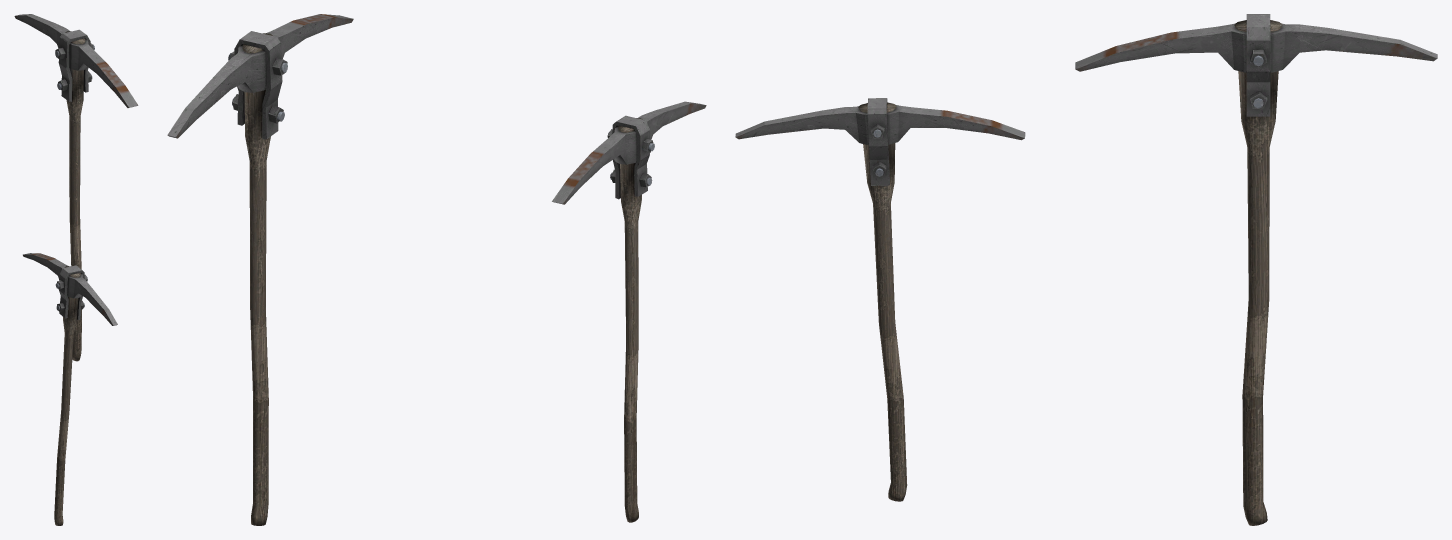
The model's file is PickaxeBasic.glb.
3 views of the same model, side by side, from view 1: azimuth 30°, elevation 25°; view 2: azimuth 150°, elevation 25°; view 3: azimuth 270°, elevation 25° (orthographic). The views are drawn at different scales.
Parts seen in each view (by area): view 1: WorldModel, pickaxe; view 2: WorldModel, pickaxe; view 3: WorldModel, pickaxe.
Boxes of the visible parts, x1,y1,x2,y2 form: WorldModel: (14, 14, 138, 361); pickaxe: (23, 253, 117, 525); WorldModel: (167, 14, 353, 525); pickaxe: (552, 101, 706, 522); WorldModel: (1075, 14, 1437, 525); pickaxe: (735, 98, 1025, 501).
Size of the model in its own units: 0.5425 by 1.22 by 1.34.
1 material, 1 textured.
